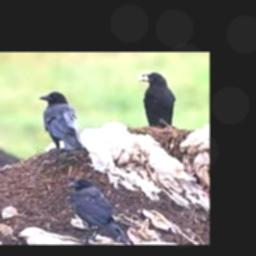Crow: (68, 178, 128, 244), (38, 91, 84, 151), (139, 72, 175, 127)
